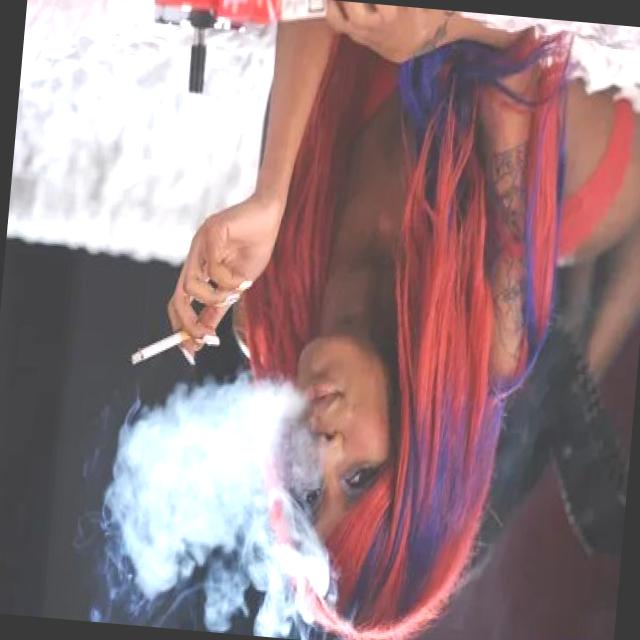smoke: (128, 321, 196, 372)
